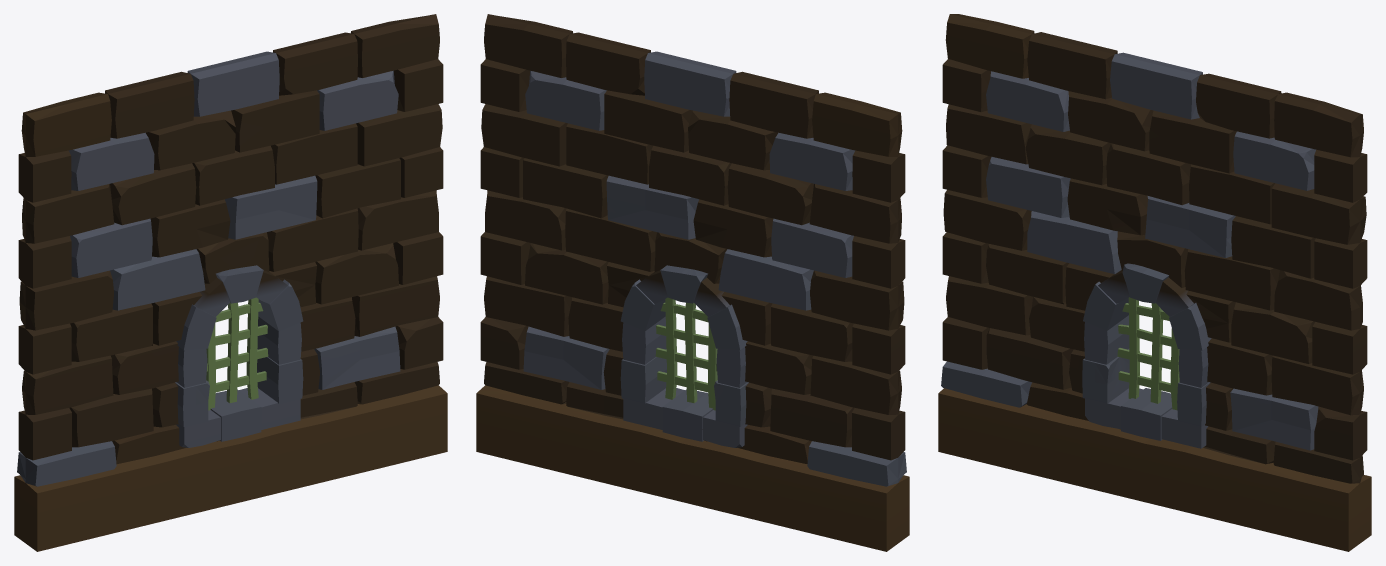
The model's file is Wall_16.fbx.
3 renders of one model, left to right at view 1: azimuth 30°, elevation 25°; view 2: azimuth 150°, elevation 25°; view 3: azimuth 330°, elevation 25°, orthographic.
Parts seen in each view (by area): view 1: Wall_16; view 2: Wall_16; view 3: Wall_16.
Part boxes in pixels (x1=…): Wall_16: x1=14, y1=14, x2=447, y2=551; Wall_16: x1=476, y1=14, x2=909, y2=551; Wall_16: x1=938, y1=14, x2=1371, y2=551.
Size of the model in its own units: 4 by 4 by 0.4276.
